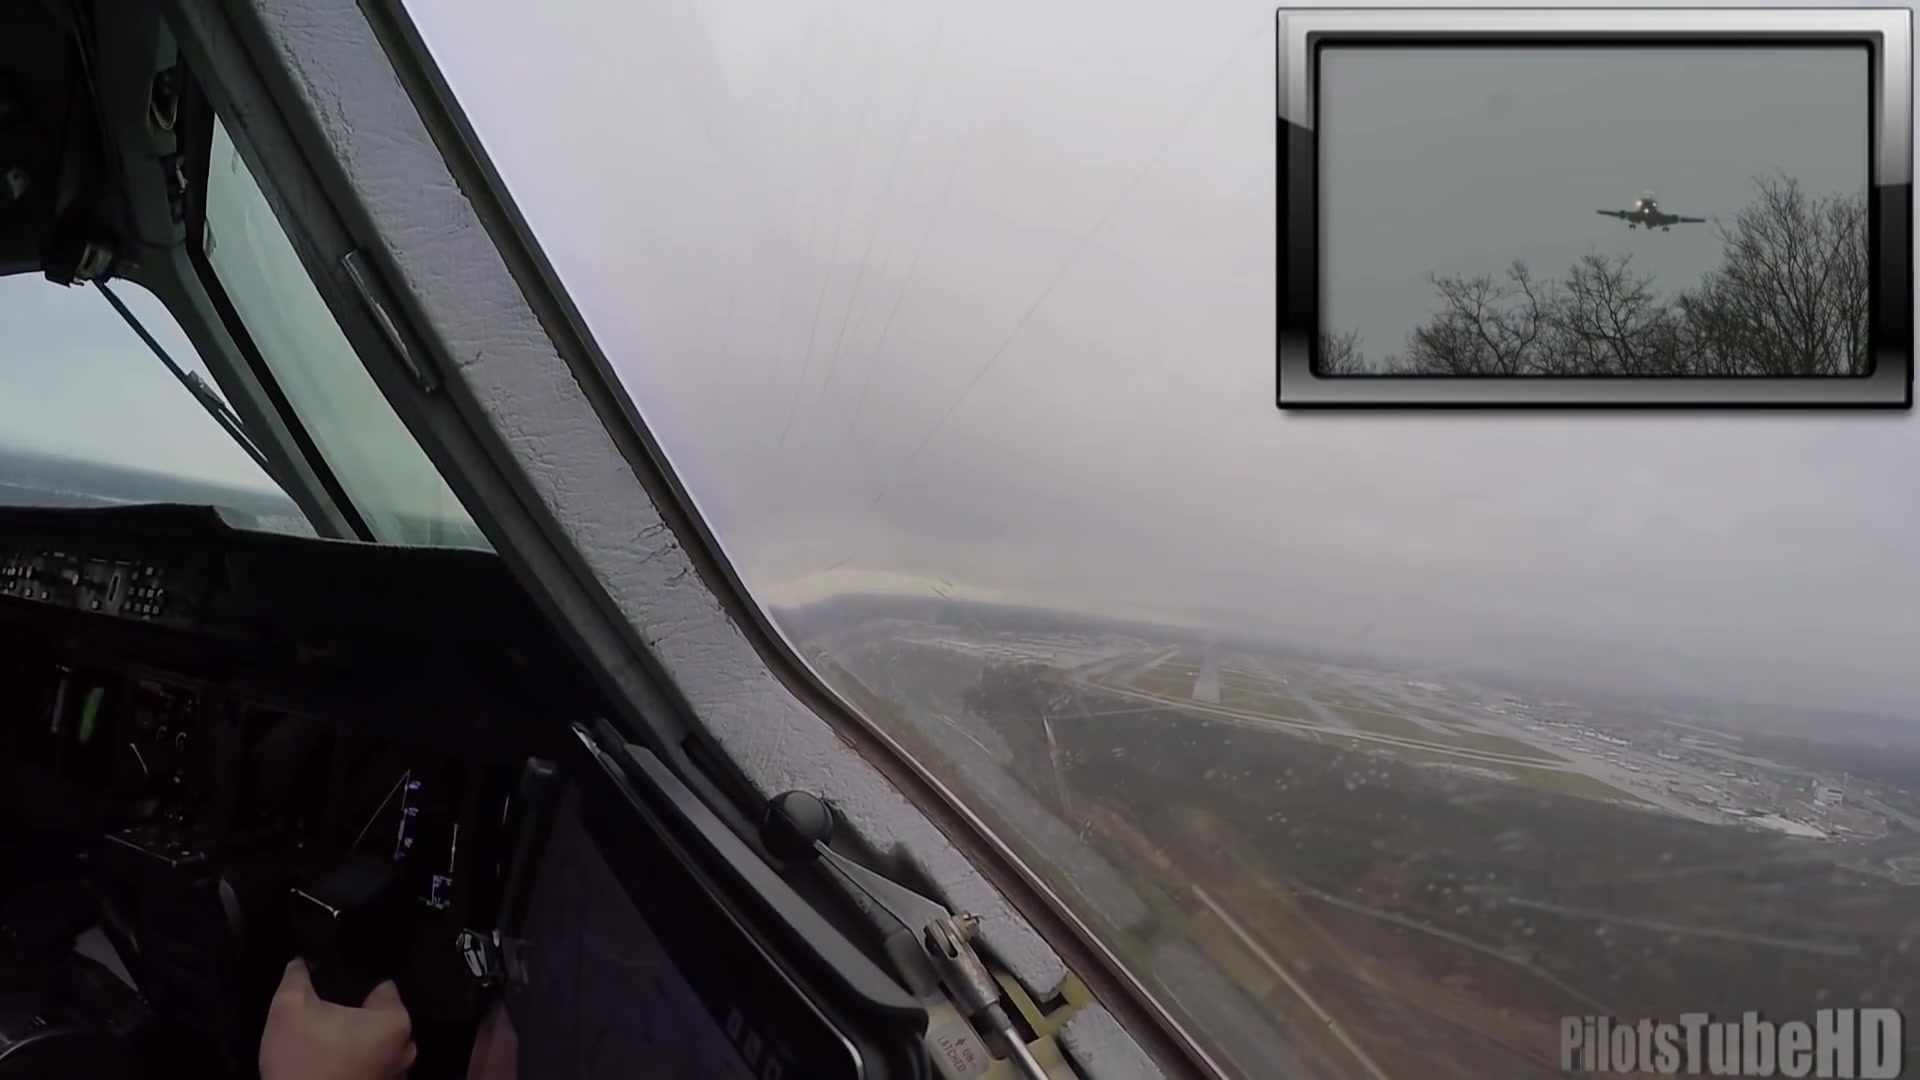runway: (1189, 654, 1222, 705)
